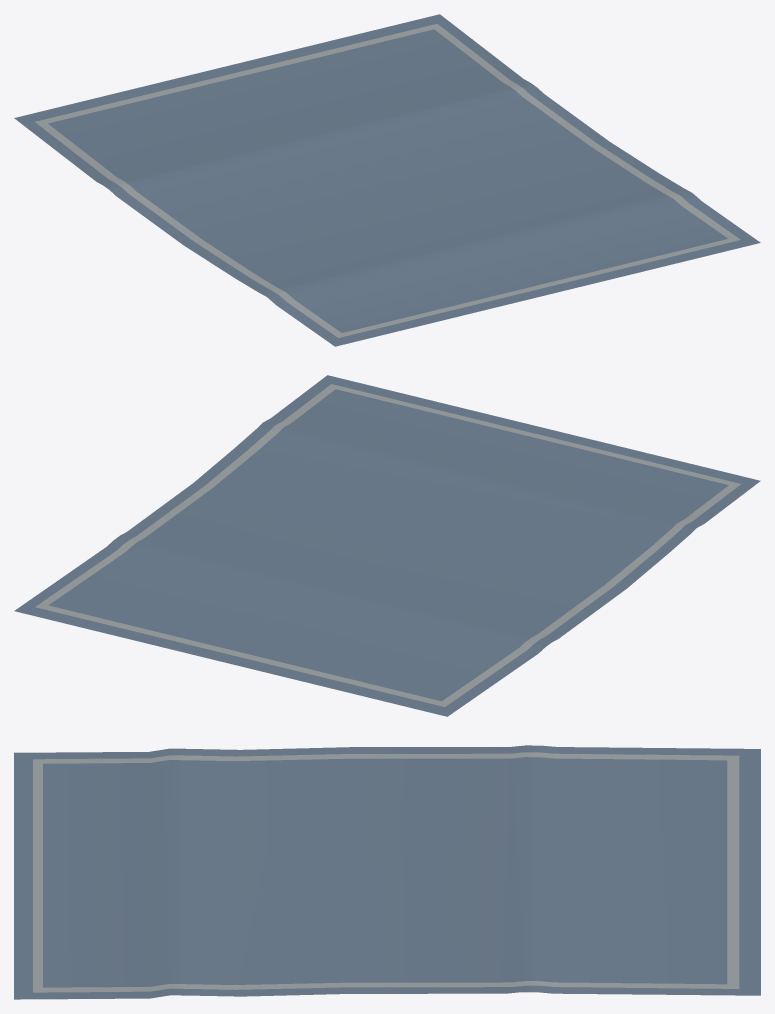
The model's file is pk_rug_vintage.glb.
3 renders of one model, top to bottom at view 1: azimuth 30°, elevation 25°; view 2: azimuth 150°, elevation 25°; view 3: azimuth 270°, elevation 25°, orthographic. The views are drawn at different scales.
Visible parts, largest first — view 1: pk_rug_vintage; view 2: pk_rug_vintage; view 3: pk_rug_vintage.
Boxes of the visible parts, x1=… form: pk_rug_vintage: x1=14, y1=14, x2=760, y2=346; pk_rug_vintage: x1=14, y1=375, x2=760, y2=716; pk_rug_vintage: x1=14, y1=745, x2=760, y2=999.
Bounding box in the file's own units: 2.4 × 0.012 × 3.
1 material, 1 textured.
